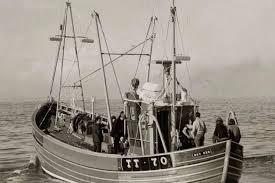fishing boat: (29, 2, 246, 183)
